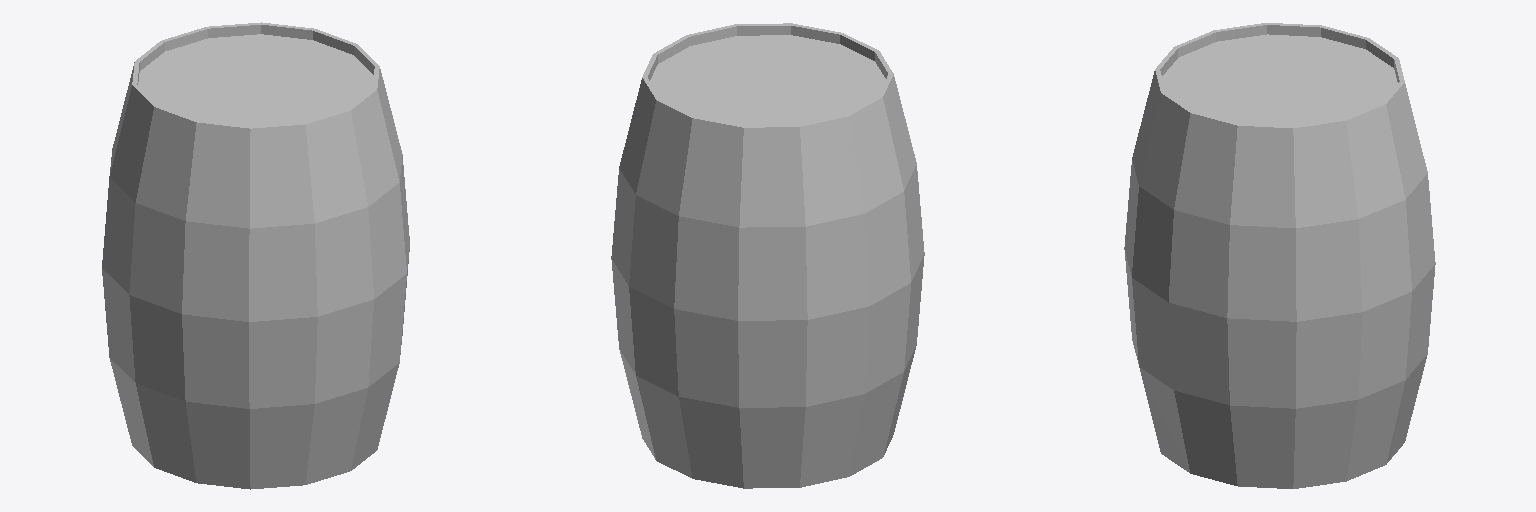
The model's file is big_wood_barrel.obj.
The picture shows the model from 3 angles: view 1: azimuth 30°, elevation 25°; view 2: azimuth 150°, elevation 25°; view 3: azimuth 270°, elevation 25°; orthographic projection.
Visible parts, largest first — view 1: wood_barrel_big Mesh; view 2: wood_barrel_big Mesh; view 3: wood_barrel_big Mesh.
Boxes of the visible parts, x1=… form: wood_barrel_big Mesh: x1=102, y1=22, x2=409, y2=489; wood_barrel_big Mesh: x1=611, y1=23, x2=924, y2=488; wood_barrel_big Mesh: x1=1124, y1=23, x2=1435, y2=488.
Bounding box in the file's own units: 124 × 158 × 124.